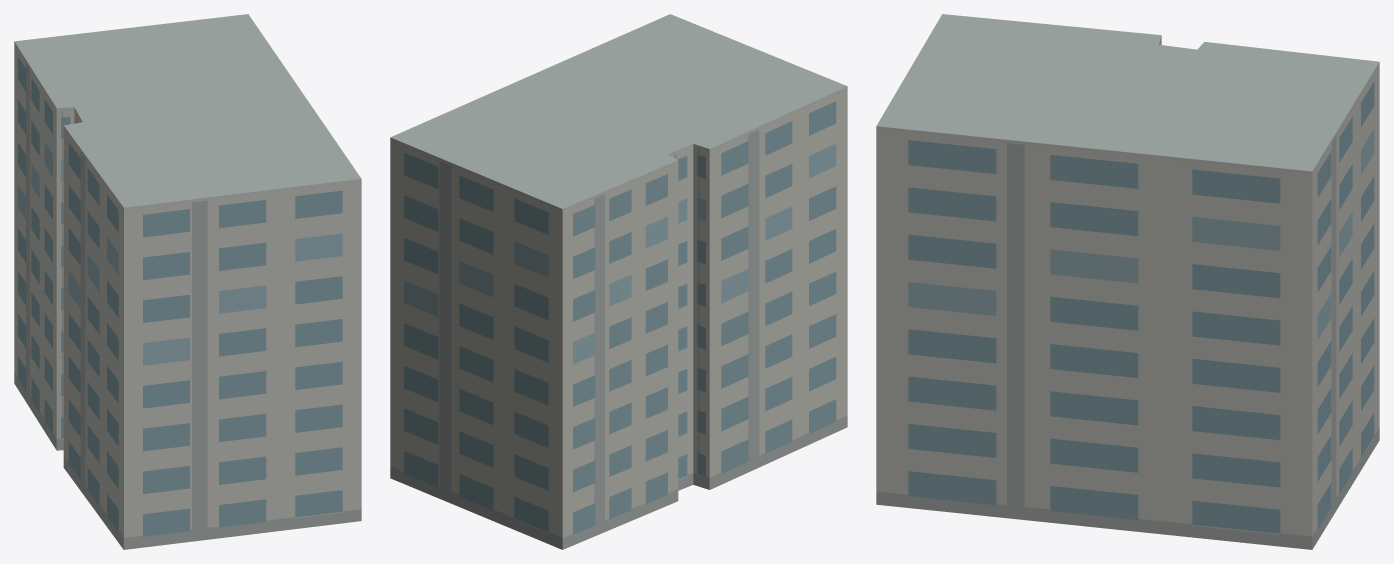
File: survey-upis-33016082.glb
3 renders of one model, left to right at view 1: azimuth 30°, elevation 25°; view 2: azimuth 150°, elevation 25°; view 3: azimuth 270°, elevation 25°, orthographic. The views are drawn at different scales.
Visible parts, largest first — view 1: survey-upis-33016082.tmp; view 2: survey-upis-33016082.tmp; view 3: survey-upis-33016082.tmp.
Part boxes in pixels (<box>): survey-upis-33016082.tmp: <box>14,14,361,549</box>; survey-upis-33016082.tmp: <box>390,14,847,549</box>; survey-upis-33016082.tmp: <box>876,14,1379,549</box>.
Bounding box in the file's own units: 24.82 × 27.8 × 33.52.
